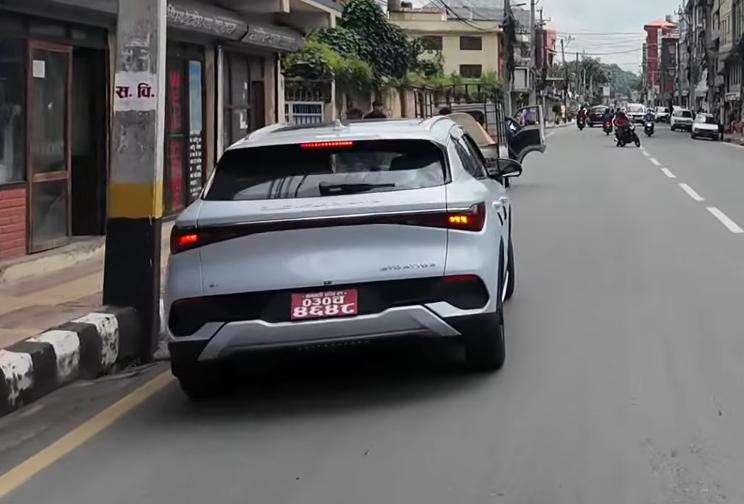bike: (612, 121, 642, 149)
car: (165, 113, 521, 396)
taxi: (689, 109, 721, 142)
